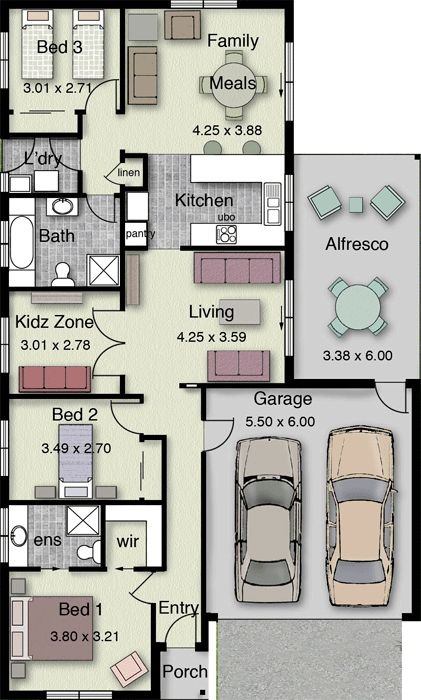room: (1, 566, 156, 700), (1, 393, 144, 506), (1, 1, 125, 115), (1, 286, 125, 399), (1, 193, 126, 291)
window: (284, 42, 295, 121), (284, 279, 294, 357), (46, 689, 113, 700), (283, 175, 294, 233), (170, 1, 237, 9), (1, 317, 10, 373), (1, 420, 10, 476), (1, 506, 10, 562), (1, 34, 10, 89), (1, 220, 10, 268)
